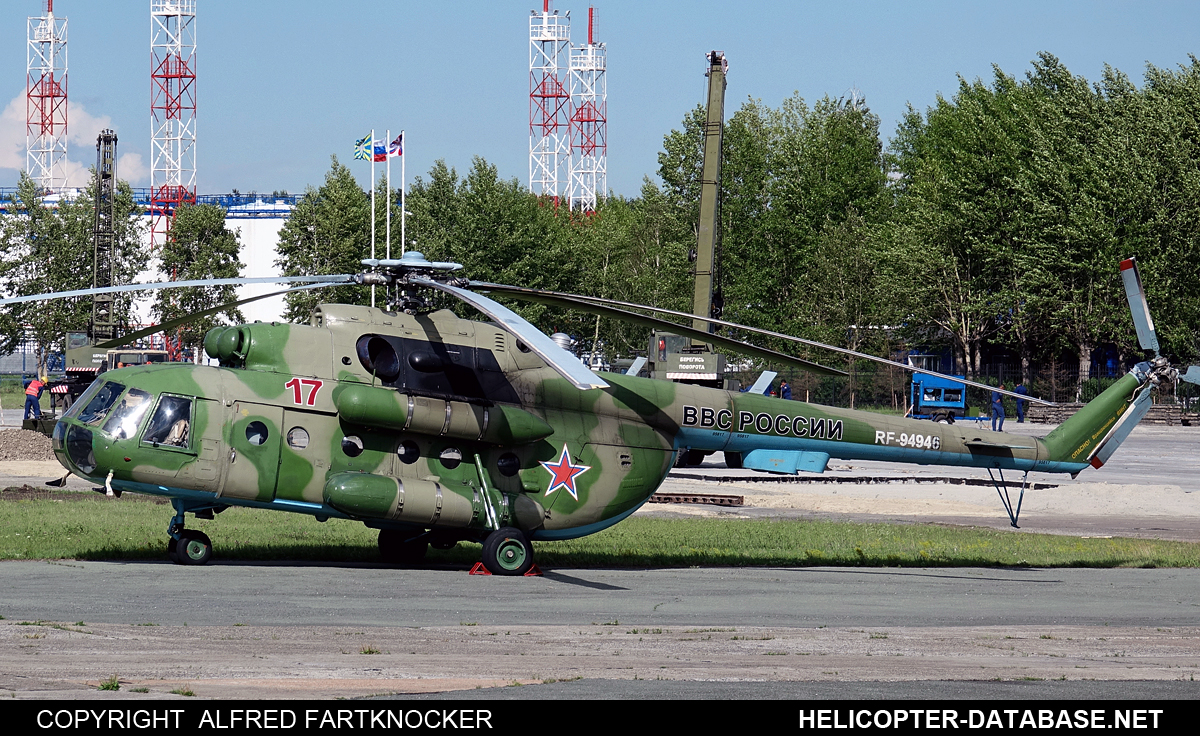number: (872, 426, 943, 454), (281, 371, 332, 409)
